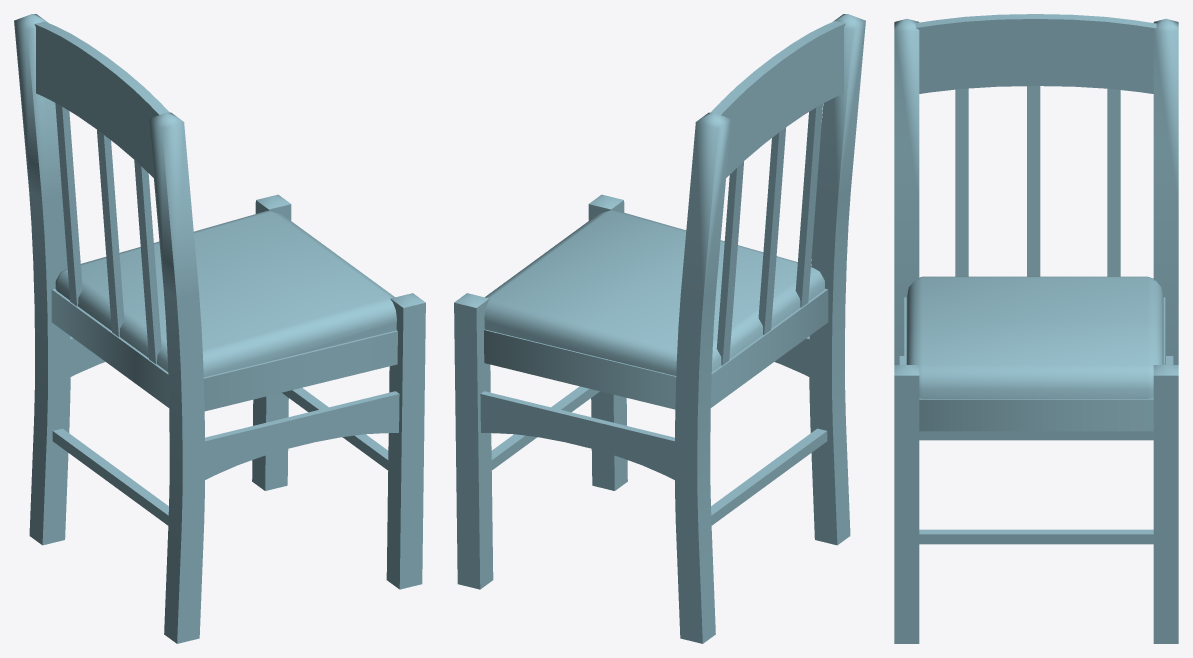
File: lo_Prop_Chair_A.fbx
The picture shows the model from 3 angles, left to right: view 1: azimuth 30°, elevation 25°; view 2: azimuth 150°, elevation 25°; view 3: azimuth 270°, elevation 25°; orthographic projection. The views are drawn at different scales.
Parts seen in each view (by area): view 1: lo_Prop_Chair_A_LOD0; view 2: lo_Prop_Chair_A_LOD0; view 3: lo_Prop_Chair_A_LOD0.
Part boxes in pixels (bbox=[...]): lo_Prop_Chair_A_LOD0: bbox=[14, 14, 425, 643]; lo_Prop_Chair_A_LOD0: bbox=[454, 14, 865, 643]; lo_Prop_Chair_A_LOD0: bbox=[894, 14, 1178, 643].
Size of what is drawn, in the model's own units: 0.6803 by 1.31 by 0.658.
